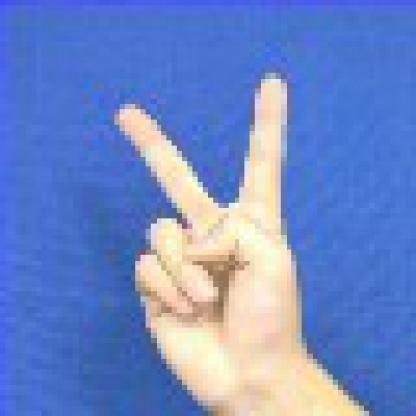two: (102, 67, 322, 414)
